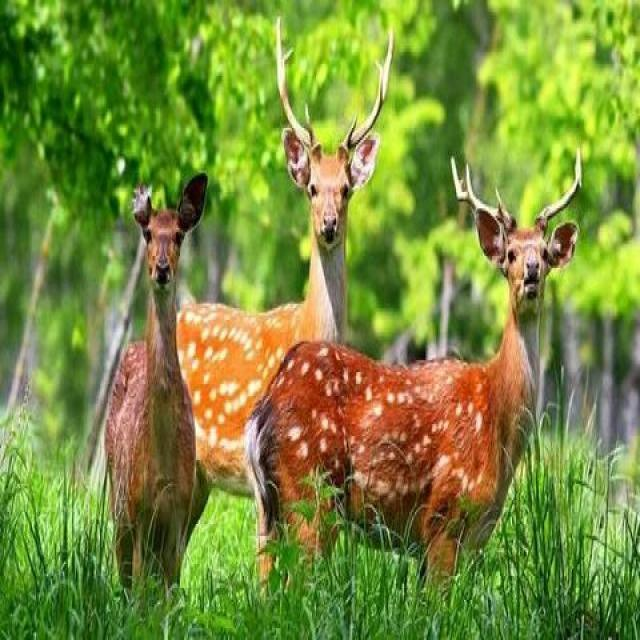deer: (236, 110, 608, 614), (85, 134, 224, 505), (247, 16, 381, 353)
